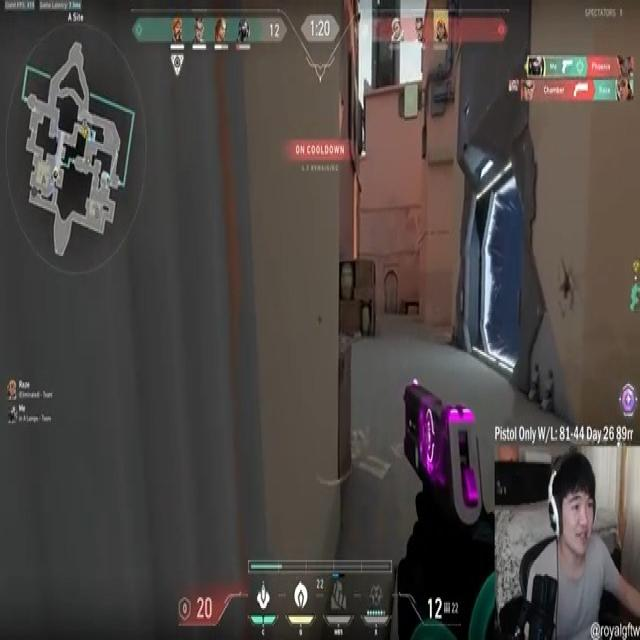ally behind wall: (628, 279, 640, 310)
